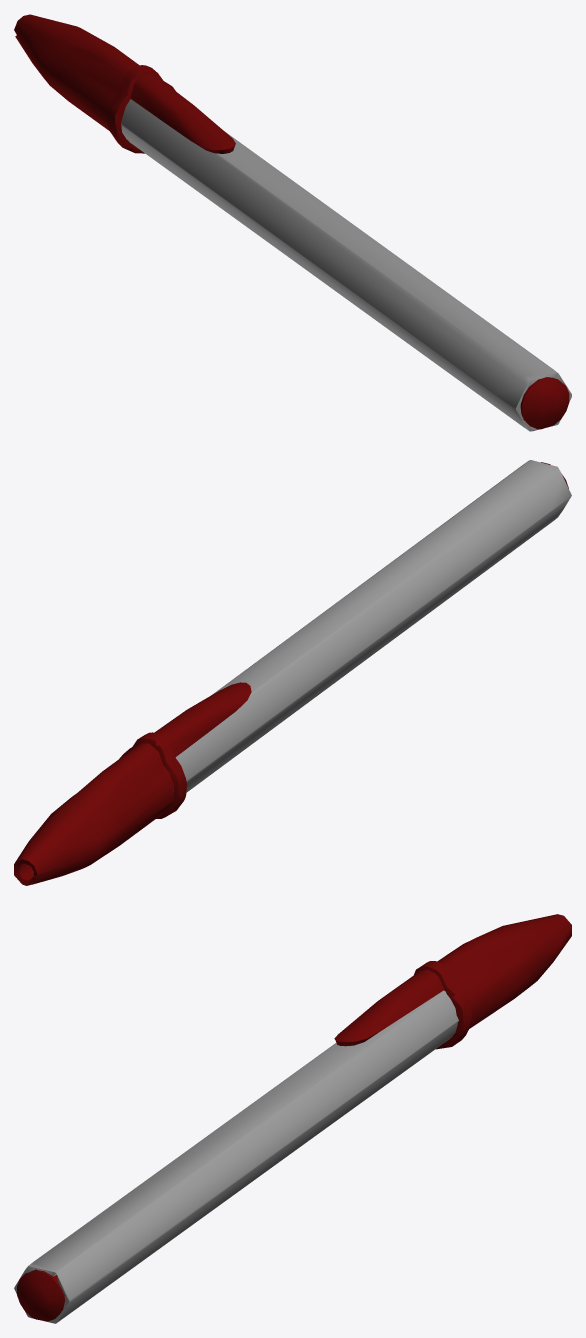
The model's file is Pen 2.FBX.
The picture shows the model from 3 angles, top to bottom: view 1: azimuth 30°, elevation 25°; view 2: azimuth 150°, elevation 25°; view 3: azimuth 330°, elevation 25°; orthographic projection.
Parts seen in each view (by area): view 1: Pen 2; view 2: Pen 2; view 3: Pen 2.
Part boxes in pixels (bbox=[...]): Pen 2: bbox=[14, 14, 571, 431]; Pen 2: bbox=[14, 460, 571, 885]; Pen 2: bbox=[14, 914, 571, 1323].
Size of the model in its own units: 1.05 by 1.23 by 14.19.
